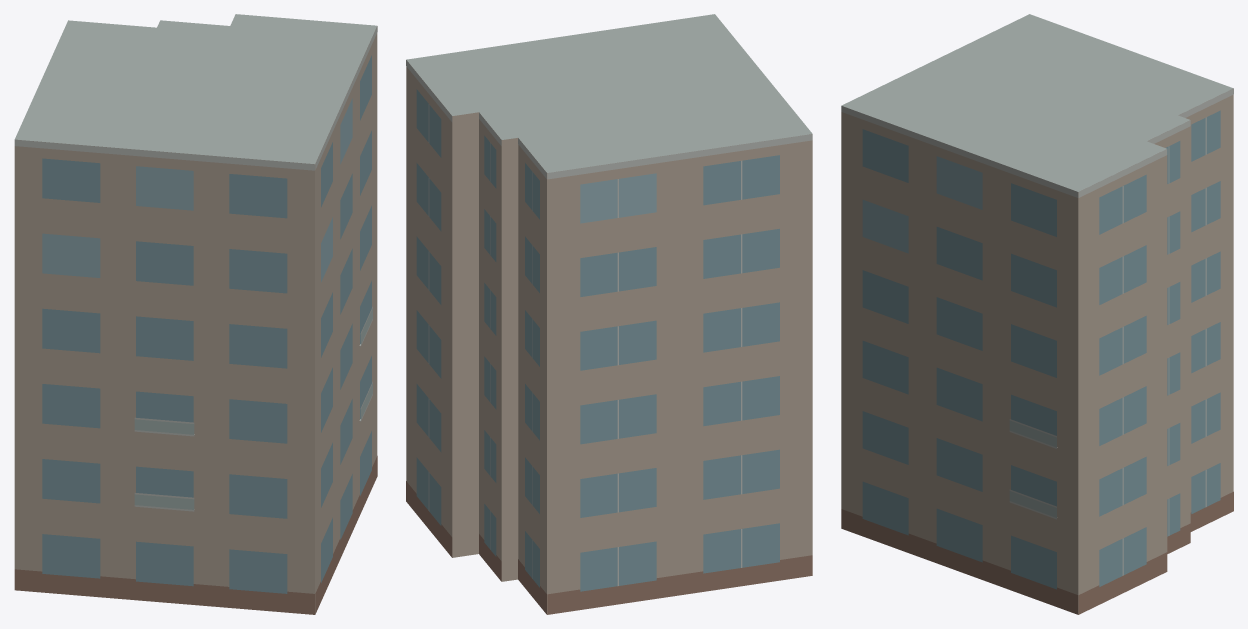
File: survey-upis-32526023.glb
3 renders of one model, left to right at view 1: azimuth 30°, elevation 25°; view 2: azimuth 150°, elevation 25°; view 3: azimuth 270°, elevation 25°, orthographic. The views are drawn at different scales.
Parts seen in each view (by area): view 1: survey-upis-32526023.tmp; view 2: survey-upis-32526023.tmp; view 3: survey-upis-32526023.tmp.
Part boxes in pixels (bbox=[...]): survey-upis-32526023.tmp: bbox=[14, 14, 377, 614]; survey-upis-32526023.tmp: bbox=[406, 14, 812, 614]; survey-upis-32526023.tmp: bbox=[841, 14, 1233, 614].
Size of the model in its own units: 15.17 by 16.8 by 14.14.
